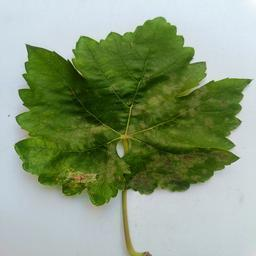Powdery-Mildew: (142, 151, 204, 188), (133, 82, 179, 122), (70, 119, 107, 154), (181, 92, 215, 130), (58, 161, 101, 186), (106, 153, 132, 185), (180, 64, 197, 81), (30, 148, 46, 164)
